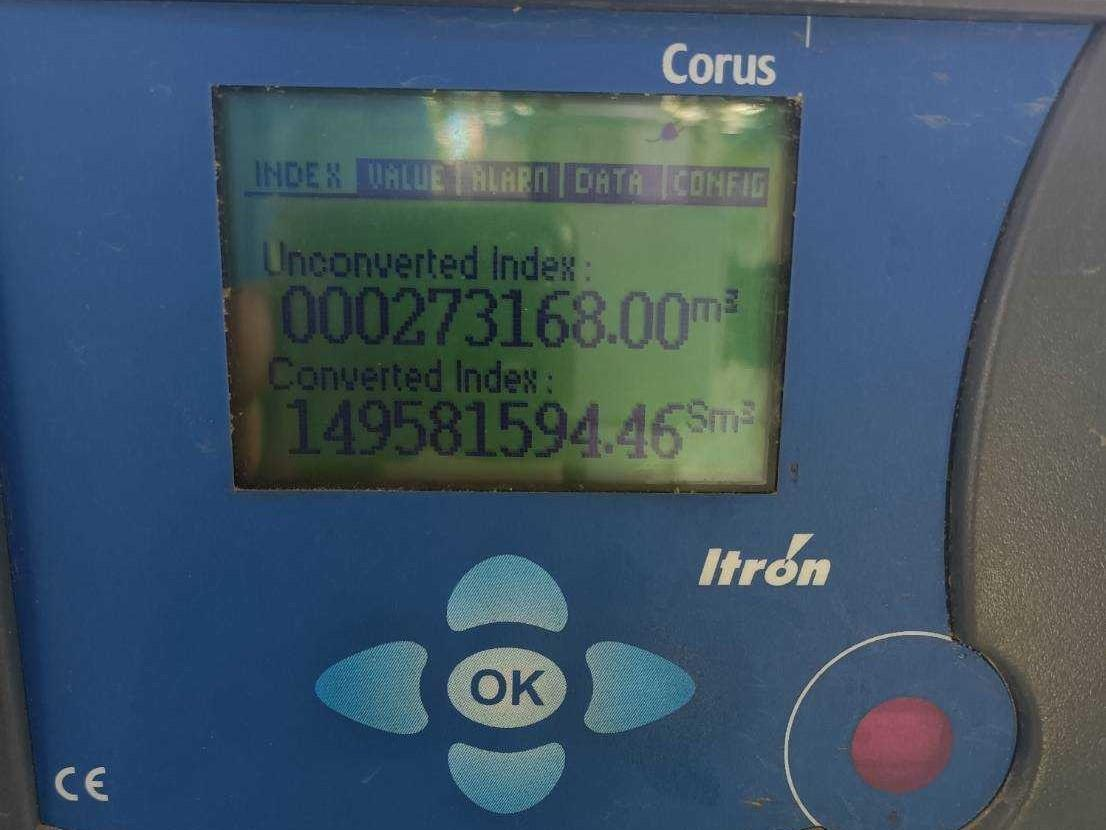digital_screen: (209, 88, 801, 492)
